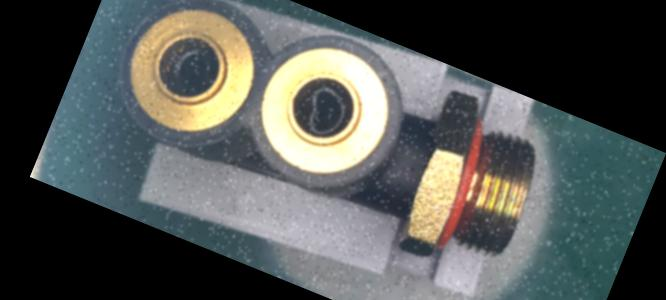off-centered: (289, 75, 359, 149), (162, 37, 226, 104)
